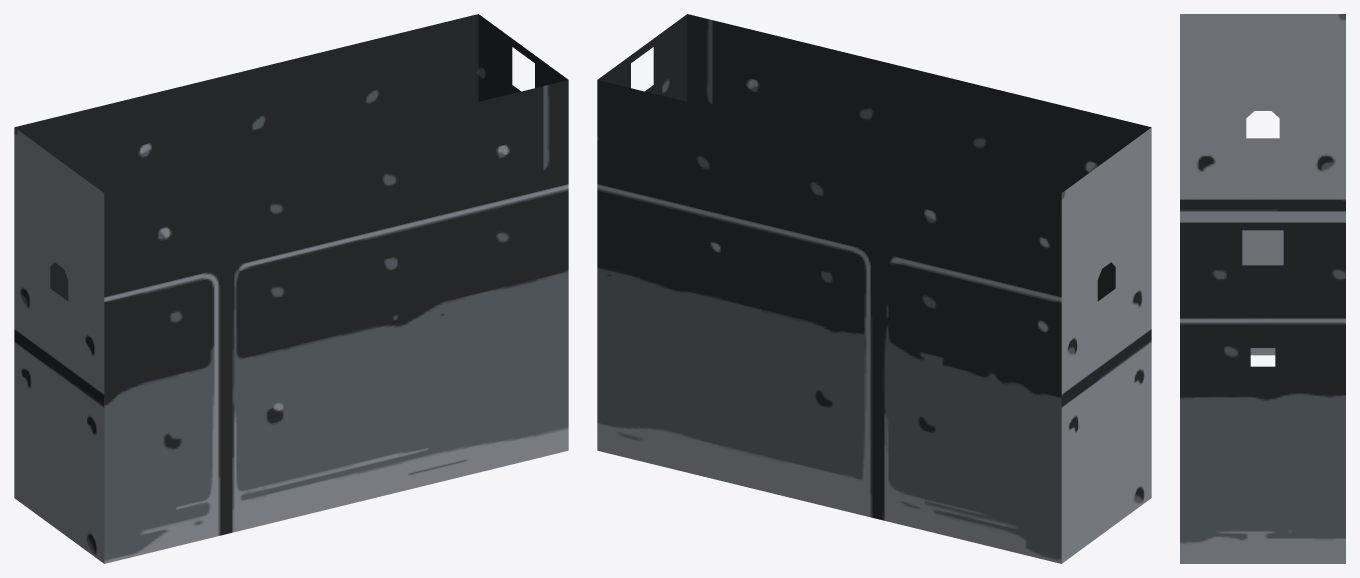
The model's file is 02bigwalls.fbx.
3 renders of one model, left to right at view 1: azimuth 30°, elevation 25°; view 2: azimuth 150°, elevation 25°; view 3: azimuth 270°, elevation 25°, orthographic. The views are drawn at different scales.
Parts seen in each view (by area): view 1: Stairs__1_.011; view 2: Stairs__1_.011; view 3: Stairs__1_.011.
Boxes of the visible parts, x1,y1,x2,y2 form: Stairs__1_.011: (14, 14, 568, 563); Stairs__1_.011: (597, 14, 1151, 563); Stairs__1_.011: (1180, 14, 1345, 563).
Bounding box in the file's own units: 119 × 90.77 × 40.
